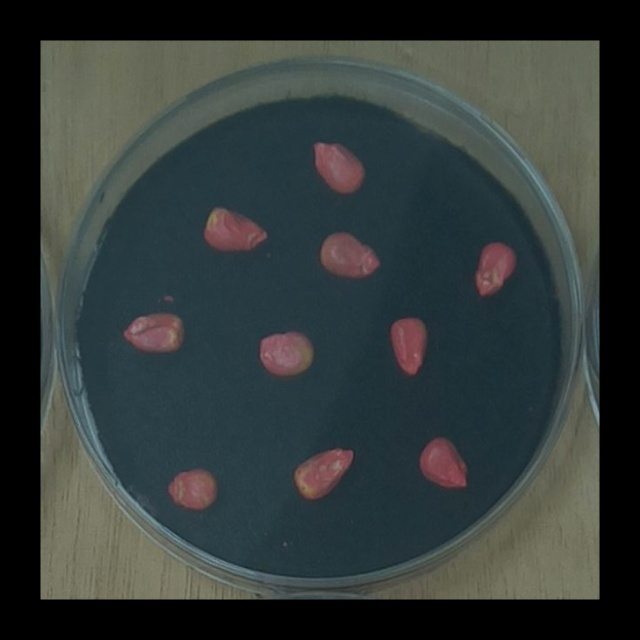Zea mays: (286, 440, 360, 506), (197, 198, 275, 258), (306, 133, 372, 201), (314, 224, 387, 284), (117, 305, 190, 359), (252, 324, 320, 381), (413, 430, 473, 494), (470, 235, 524, 304), (383, 310, 434, 381), (161, 460, 223, 516)
